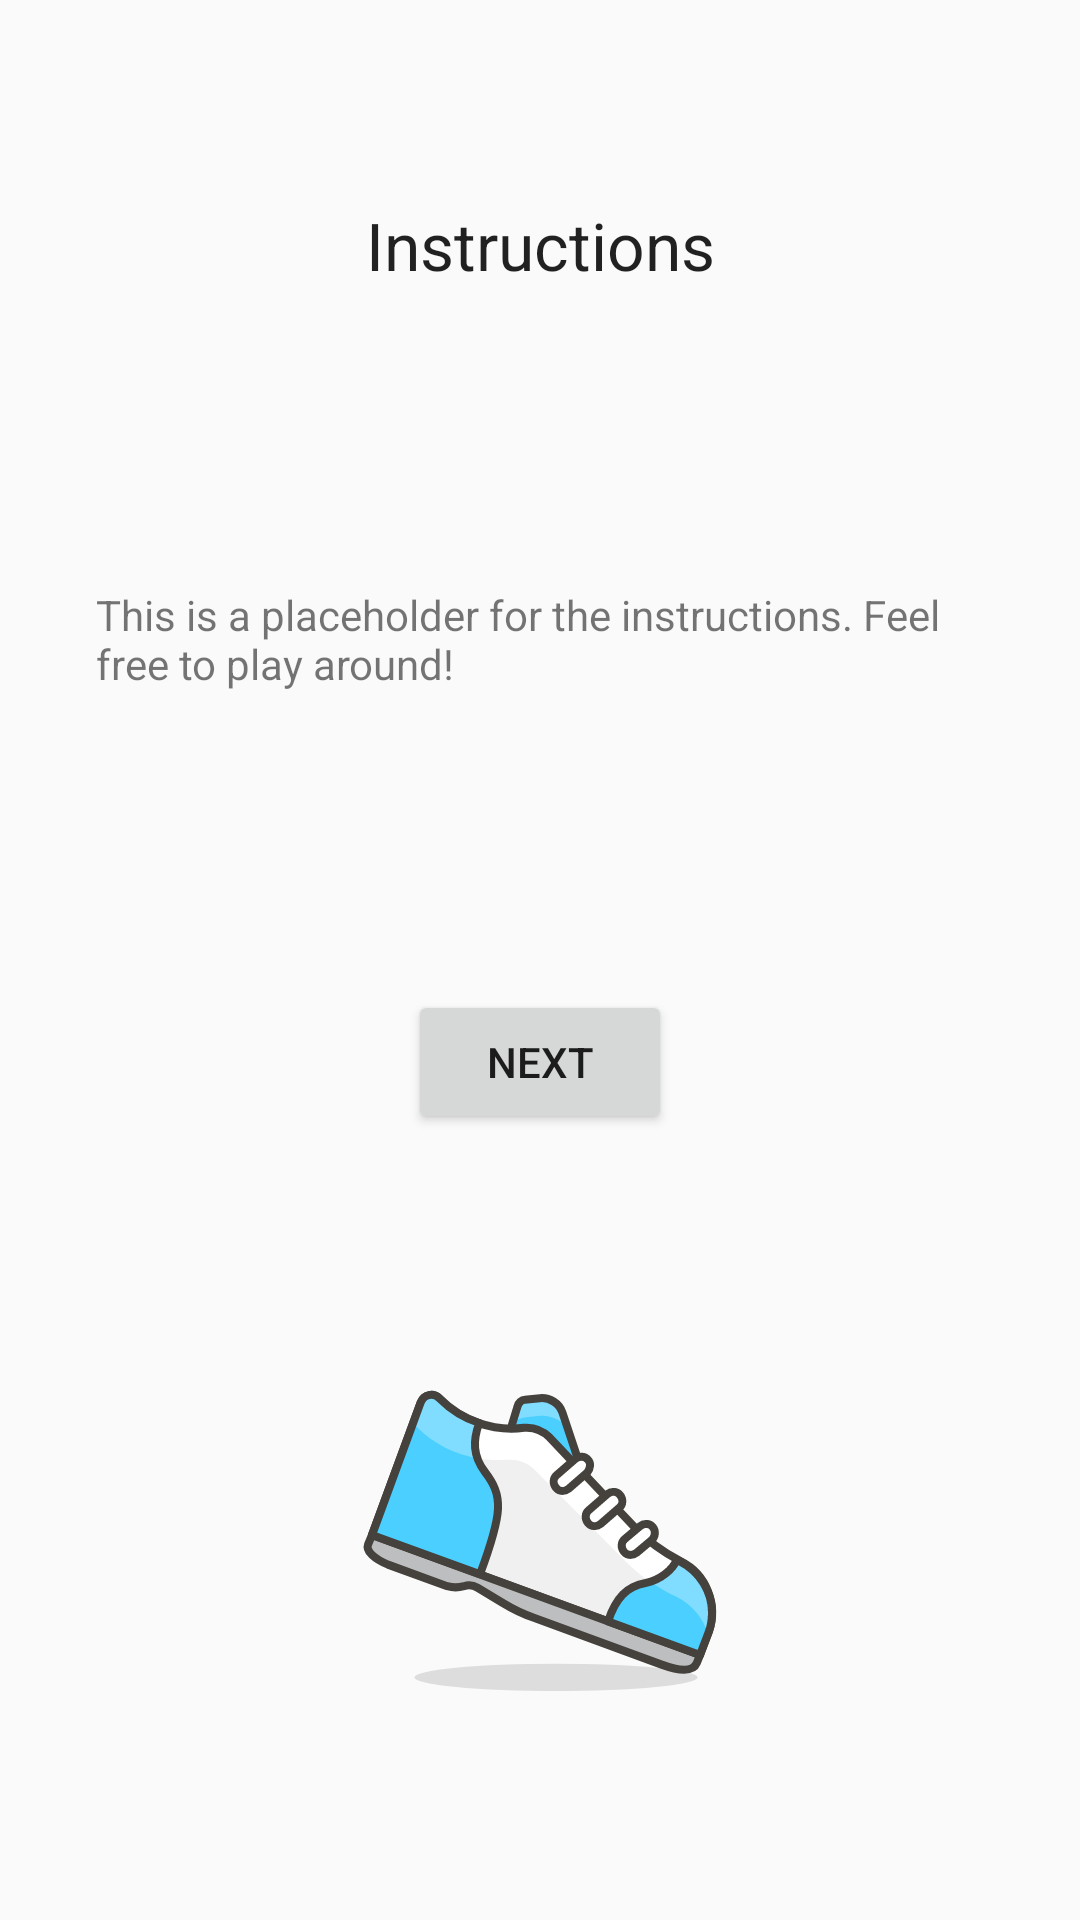

Where to tap for icons on this 1080 × 1920 app screen, as [x,y]:
Shoe image: [540,1540]
